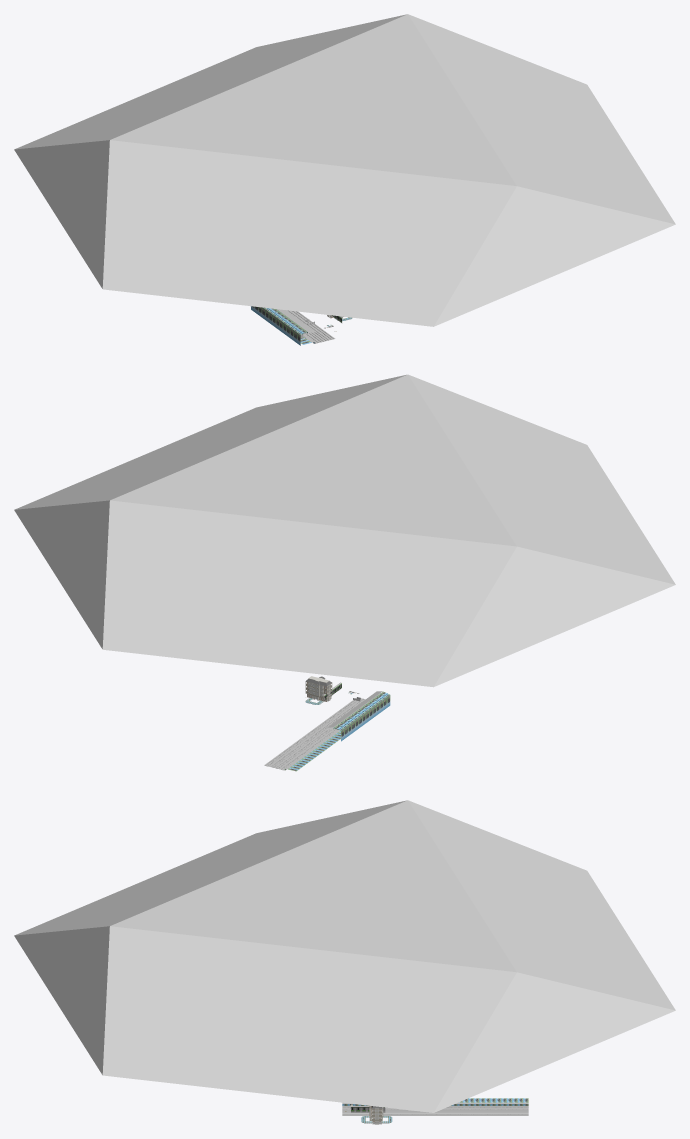
The model's file is city3.fbx.
The picture shows the model from 3 angles, top to bottom: view 1: azimuth 30°, elevation 25°; view 2: azimuth 150°, elevation 25°; view 3: azimuth 270°, elevation 25°; orthographic projection.
Parts seen in each view (by area): view 1: Sphere, Plane.003; view 2: Sphere, Plane.003, Plane.009, Cube.010; view 3: Sphere, Plane.009, Plane.019.
Part boxes in pixels (box(x1,y1,x2,y2)): Sphere: box(14, 14, 675, 326); Plane.003: box(251, 306, 307, 345); Sphere: box(14, 374, 675, 687); Plane.003: box(333, 691, 390, 741); Plane.009: box(284, 730, 340, 771); Cube.010: box(305, 676, 332, 701); Sphere: box(14, 800, 675, 1112); Plane.009: box(342, 1098, 528, 1105); Plane.019: box(342, 1113, 528, 1115).
Size of the model in its own units: 63599 by 23524 by 63599.
